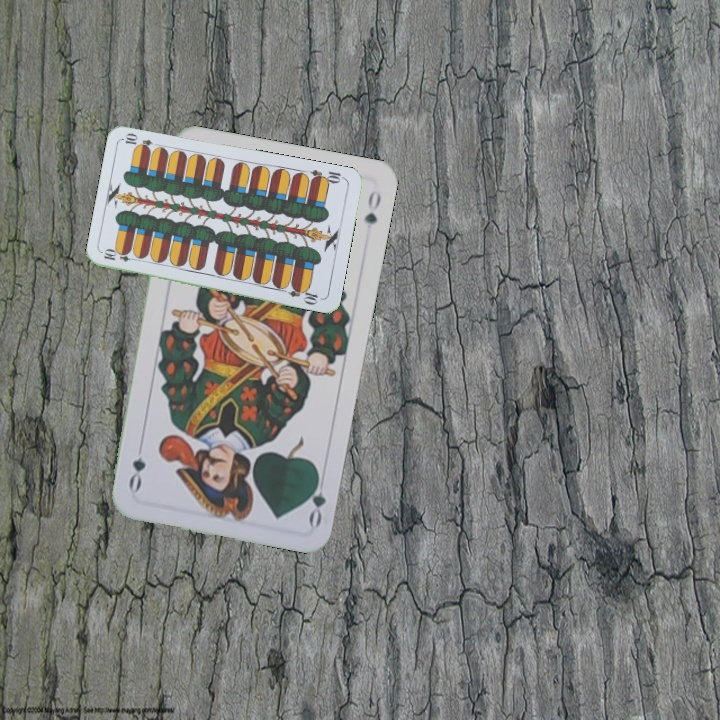E10: (307, 166, 347, 186), (100, 247, 140, 265)
GO: (302, 469, 329, 529)
